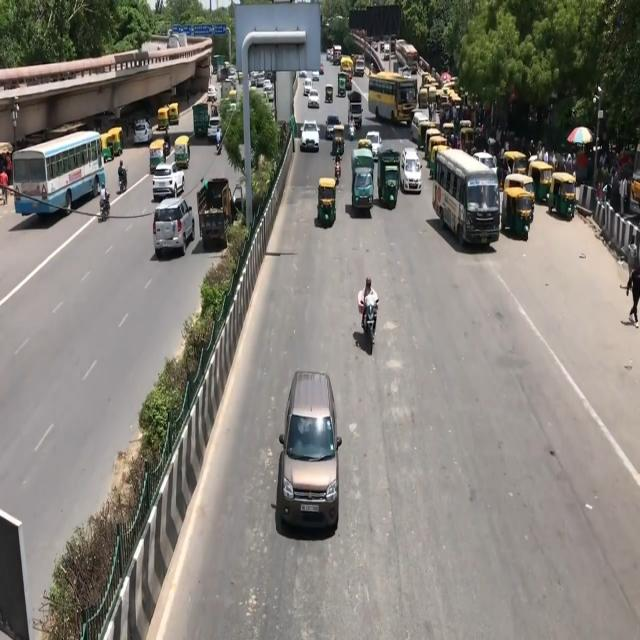Auto: (507, 176, 540, 252), (312, 180, 345, 233)
Bike: (358, 272, 385, 354)
Bus: (7, 115, 114, 228), (432, 147, 502, 256)
Car: (268, 361, 354, 554), (149, 200, 201, 255), (300, 113, 322, 159)
Tempo: (351, 148, 376, 222)
